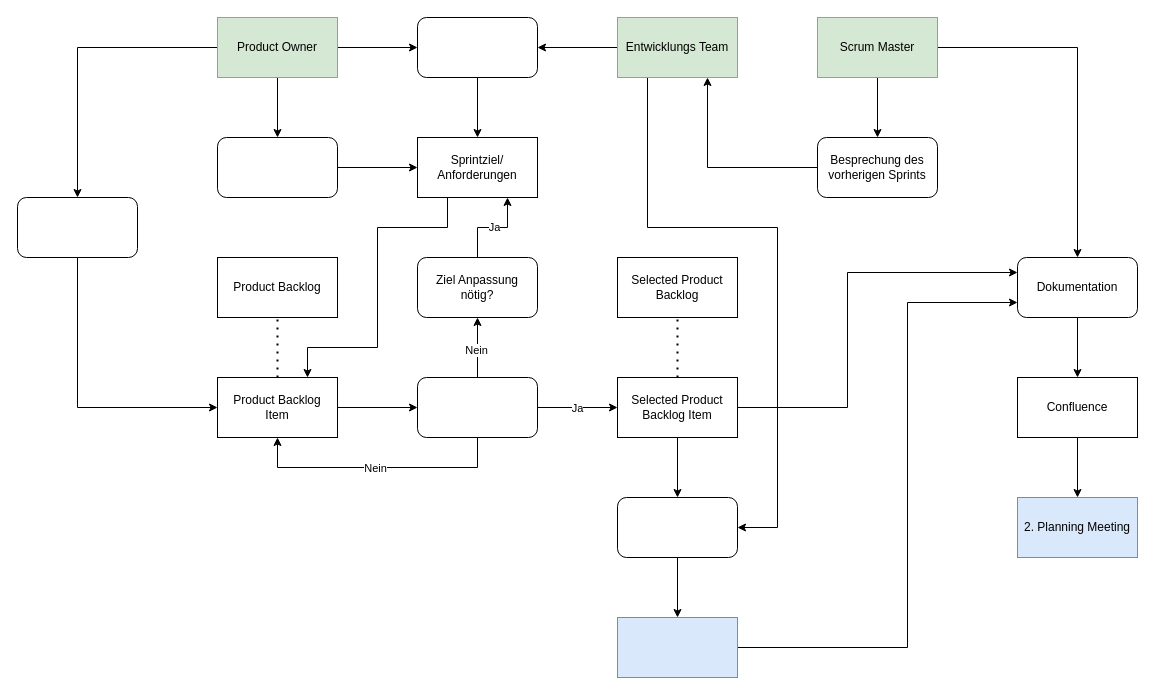
Image size: 1155x695. Some labels were removed from this diagram. Here are the shapes that lost their labels. From the top down, the centre of each, then its label:
At (x=477, y=47): "Besprechung der Anforderungen".
At (x=277, y=167): "Vorstellung".
At (x=77, y=227): "Priorisierung".
At (x=477, y=407): "Planning Poker".
At (x=677, y=527): "Forecast".
At (x=677, y=647): "Ziel".
